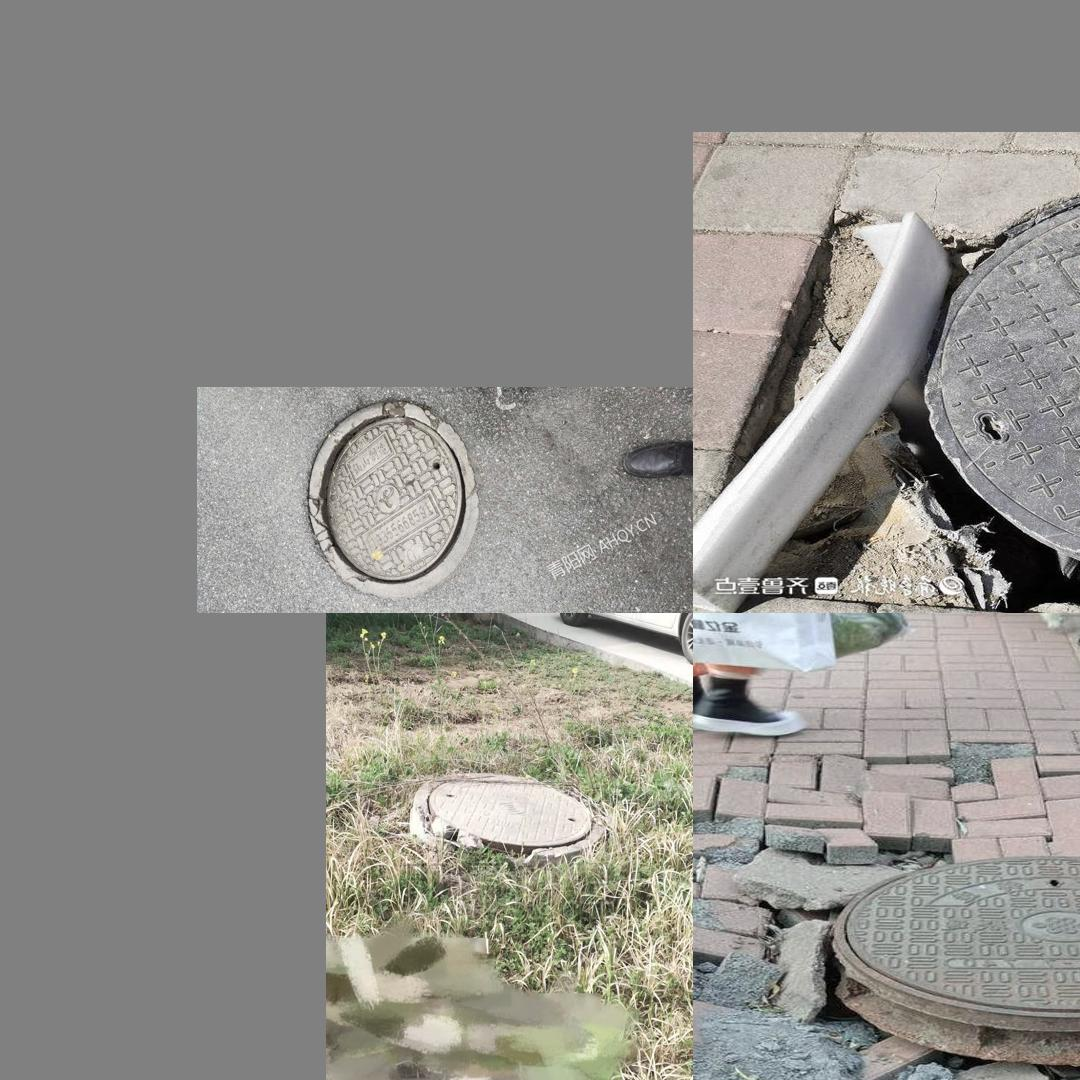circle: (759, 176, 1080, 599), (701, 766, 1080, 1080), (284, 399, 489, 596), (411, 766, 617, 867)
